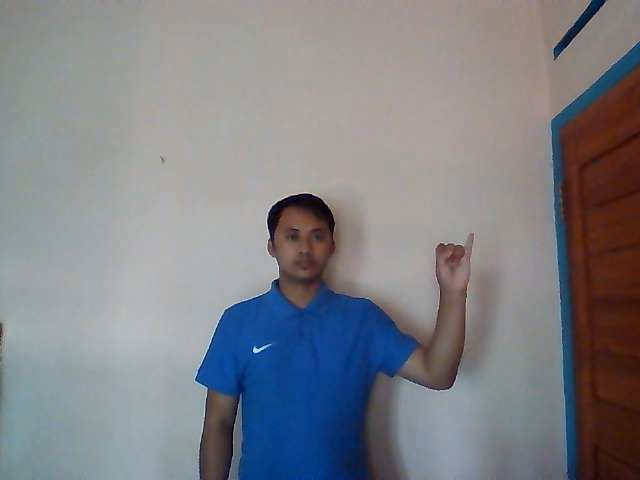I: (434, 232, 475, 289)
